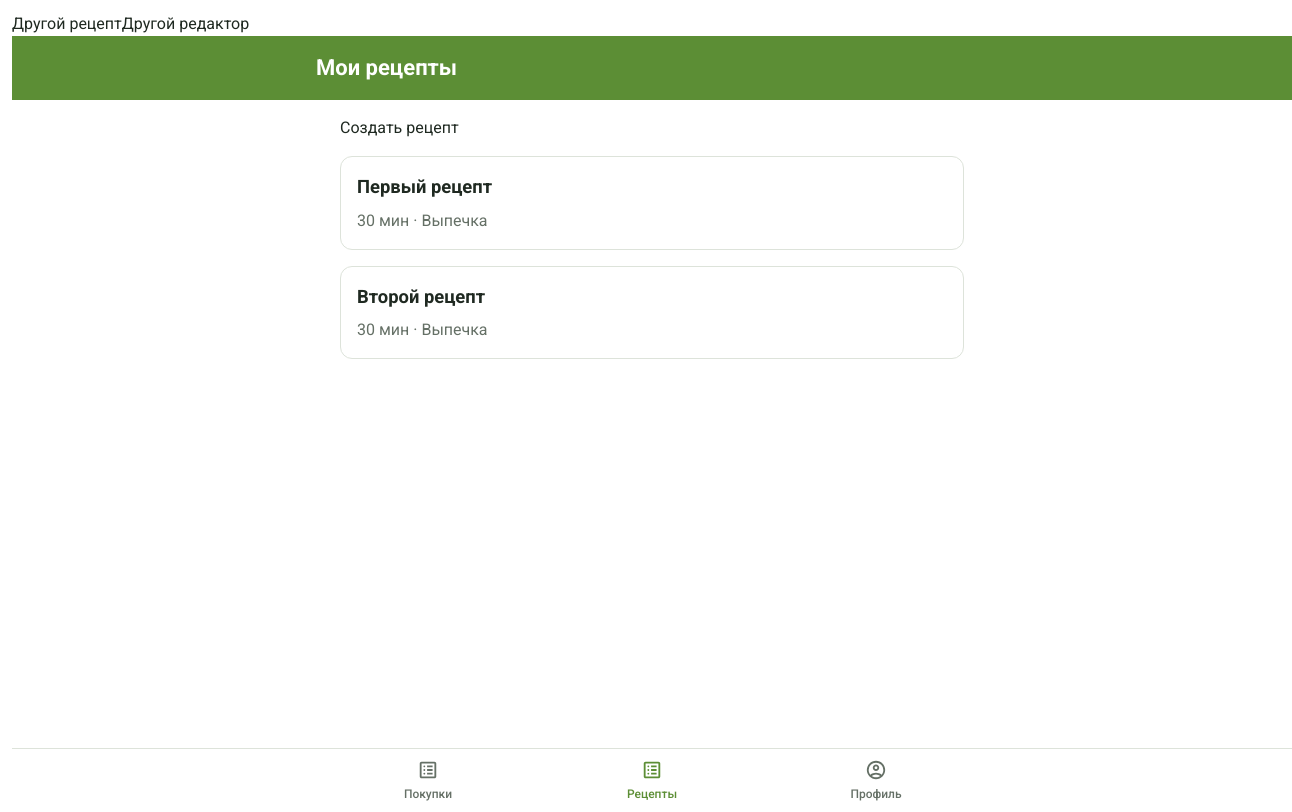
Test: Демонстрационный клиент рецептов › показывает коллекцию, метаданные и полный текст с точным количеством
Click the link "Первый рецепт": (425, 186) [357,176,492,197]
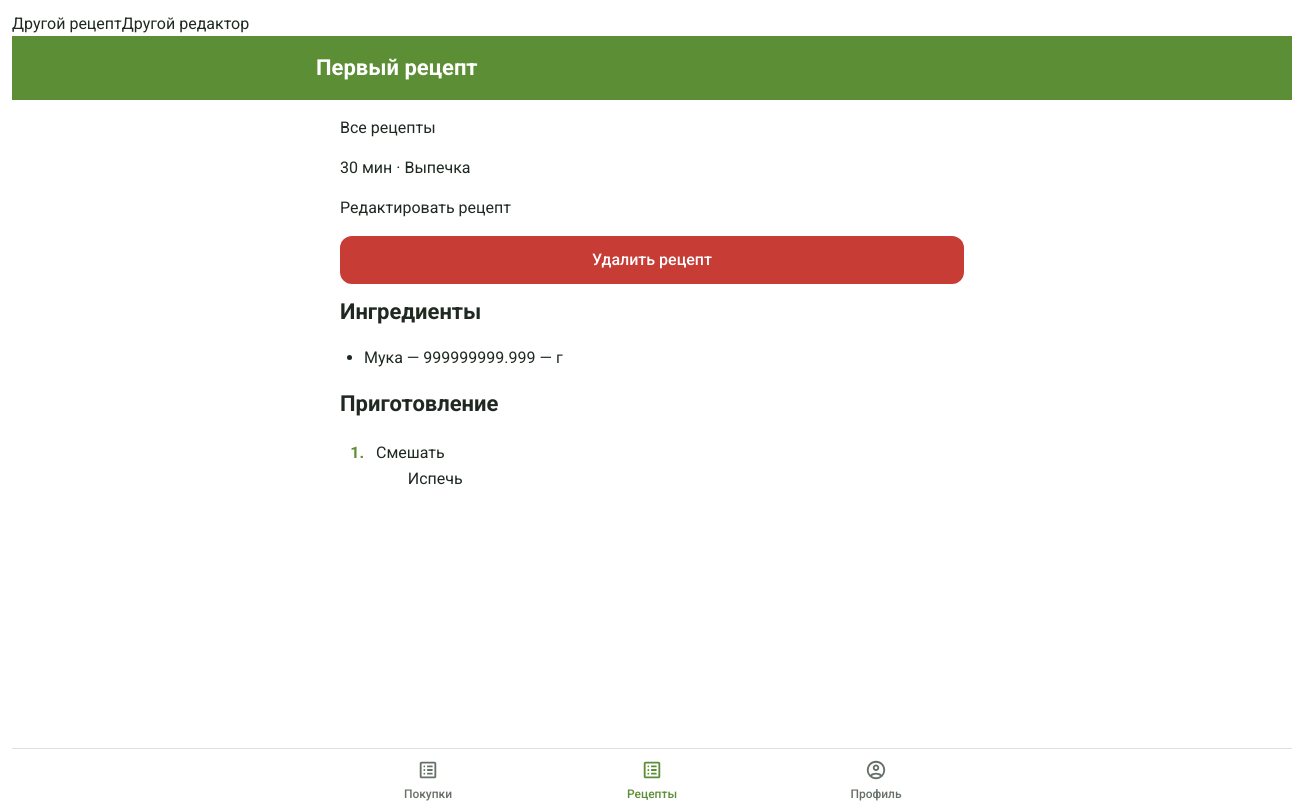
Check: the heading "Первый рецепт" is shown, box [316,54,478,82]
Check: the list item "Мука — 999999999.999 — г" is shown, box [364,348,563,367]
Check: the text "Смешать Испечь" is shown, box [376,443,463,488]
